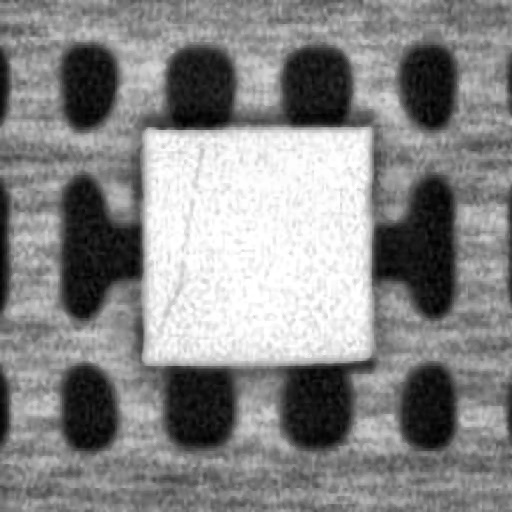DIE_CRACK: (156, 146, 198, 329)
